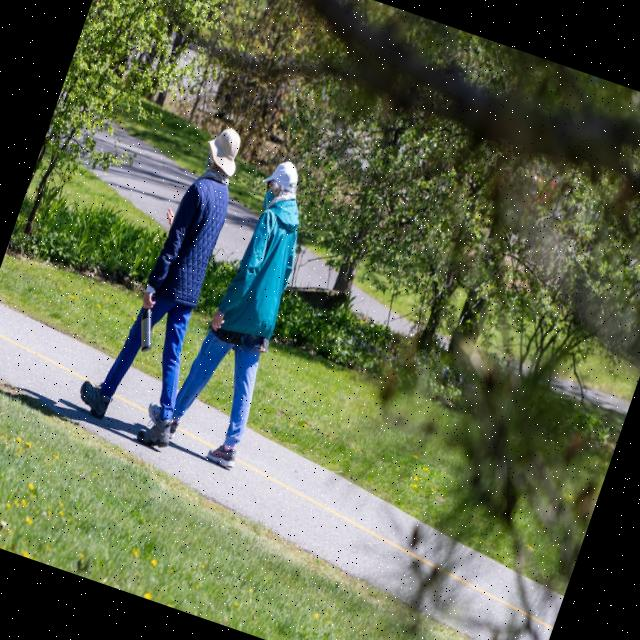Person: (70, 107, 272, 450), (138, 143, 334, 469)
